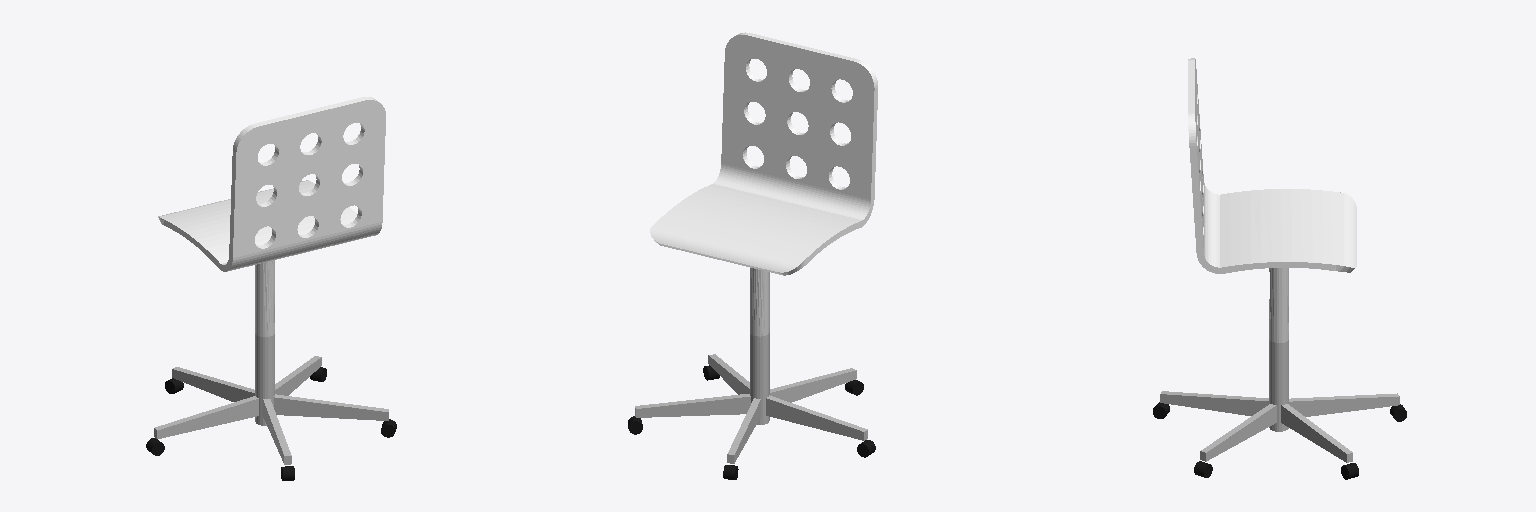
The picture shows the model from 3 angles: view 1: azimuth 30°, elevation 25°; view 2: azimuth 150°, elevation 25°; view 3: azimuth 270°, elevation 25°; orthographic projection.
Parts seen in each view (by area): view 1: Mesh1 Group2 Group1 Model, Mesh12 Group3 ske3F1 Group1 Model, Mesh5 Group5 Group3 ske3F1 Group1 Model, Mesh7 Group6 Group3 ske3F1 Group1 Model, Mesh3 Group4 Group3 ske3F1 Group1 Model, Mesh11 Group8 Group3 ske3F1 Group1 Model, Mesh9 Group7 Group3 ske3F1 Group1 Model; view 2: Mesh1 Group2 Group1 Model, Mesh12 Group3 ske3F1 Group1 Model, Mesh11 Group8 Group3 ske3F1 Group1 Model, Mesh7 Group6 Group3 ske3F1 Group1 Model, Mesh9 Group7 Group3 ske3F1 Group1 Model, Mesh3 Group4 Group3 ske3F1 Group1 Model, Mesh5 Group5 Group3 ske3F1 Group1 Model; view 3: Mesh1 Group2 Group1 Model, Mesh12 Group3 ske3F1 Group1 Model, Mesh3 Group4 Group3 ske3F1 Group1 Model, Mesh9 Group7 Group3 ske3F1 Group1 Model, Mesh5 Group5 Group3 ske3F1 Group1 Model, Mesh11 Group8 Group3 ske3F1 Group1 Model.
Boxes of the visible parts, x1=… form: Mesh1 Group2 Group1 Model: x1=158, y1=97, x2=385, y2=271; Mesh12 Group3 ske3F1 Group1 Model: x1=255, y1=260, x2=274, y2=425; Mesh5 Group5 Group3 ske3F1 Group1 Model: x1=274, y1=394, x2=388, y2=420; Mesh7 Group6 Group3 ske3F1 Group1 Model: x1=154, y1=396, x2=258, y2=438; Mesh3 Group4 Group3 ske3F1 Group1 Model: x1=172, y1=367, x2=254, y2=401; Mesh11 Group8 Group3 ske3F1 Group1 Model: x1=275, y1=356, x2=321, y2=395; Mesh9 Group7 Group3 ske3F1 Group1 Model: x1=263, y1=399, x2=291, y2=464; Mesh1 Group2 Group1 Model: x1=650, y1=32, x2=877, y2=275; Mesh12 Group3 ske3F1 Group1 Model: x1=750, y1=268, x2=769, y2=424; Mesh11 Group8 Group3 ske3F1 Group1 Model: x1=635, y1=394, x2=750, y2=417; Mesh7 Group6 Group3 ske3F1 Group1 Model: x1=766, y1=395, x2=867, y2=440; Mesh9 Group7 Group3 ske3F1 Group1 Model: x1=770, y1=368, x2=856, y2=402; Mesh3 Group4 Group3 ske3F1 Group1 Model: x1=727, y1=398, x2=760, y2=463; Mesh5 Group5 Group3 ske3F1 Group1 Model: x1=708, y1=354, x2=749, y2=394; Mesh1 Group2 Group1 Model: x1=1188, y1=58, x2=1356, y2=273; Mesh12 Group3 ske3F1 Group1 Model: x1=1269, y1=268, x2=1288, y2=431; Mesh3 Group4 Group3 ske3F1 Group1 Model: x1=1289, y1=393, x2=1399, y2=416; Mesh9 Group7 Group3 ske3F1 Group1 Model: x1=1160, y1=391, x2=1268, y2=415; Mesh5 Group5 Group3 ske3F1 Group1 Model: x1=1200, y1=404, x2=1276, y2=461; Mesh11 Group8 Group3 ske3F1 Group1 Model: x1=1281, y1=404, x2=1352, y2=462.
Bounding box in the file's own units: 0.5282 × 0.8306 × 0.5511.